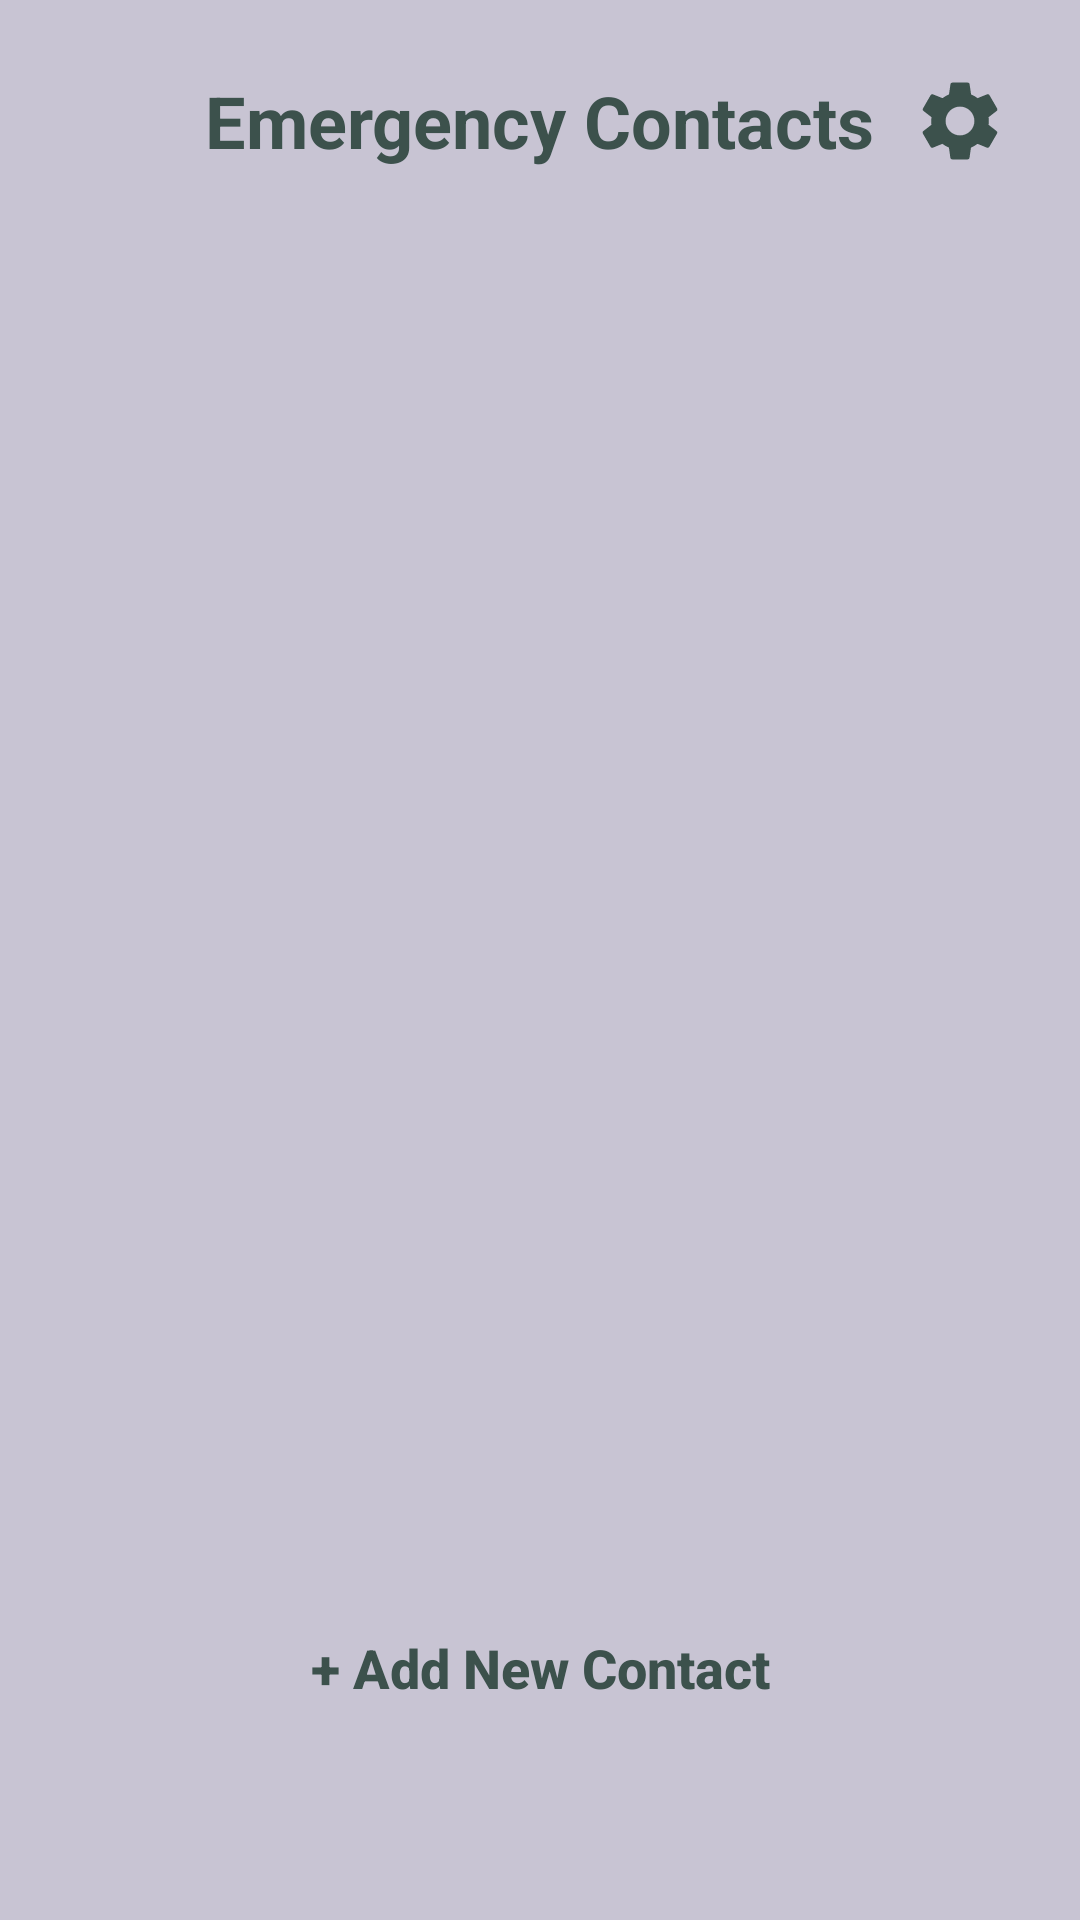

Screen size 1080 × 1920. Icon name, then its box in pixels as (x1, y1, x2, y2):
settings: (922, 82, 998, 160)
